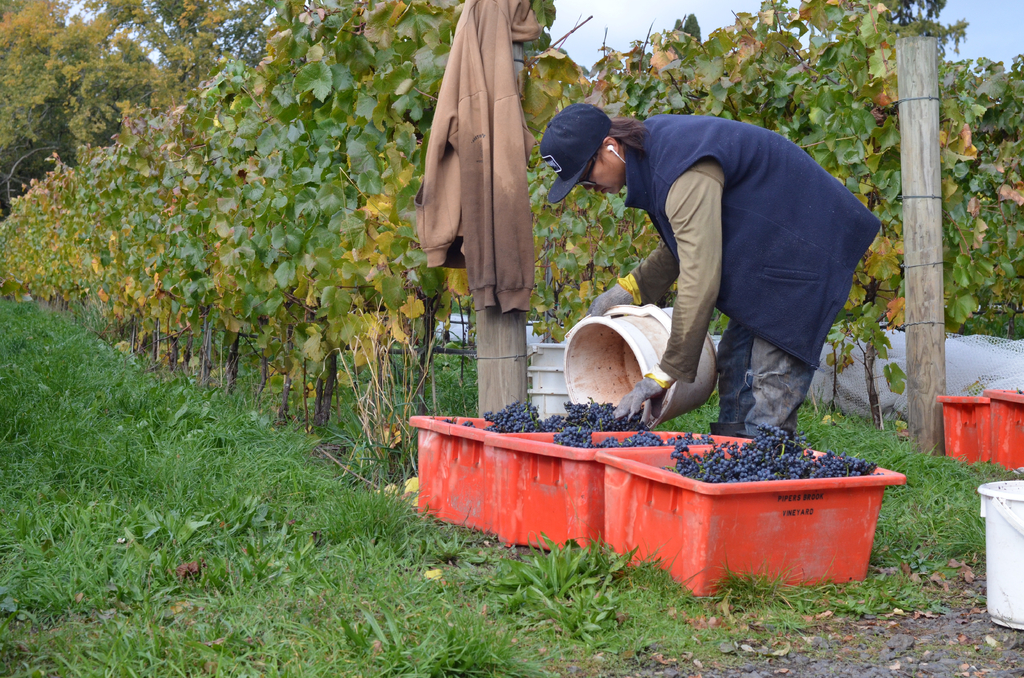Person: (540, 103, 881, 440)
